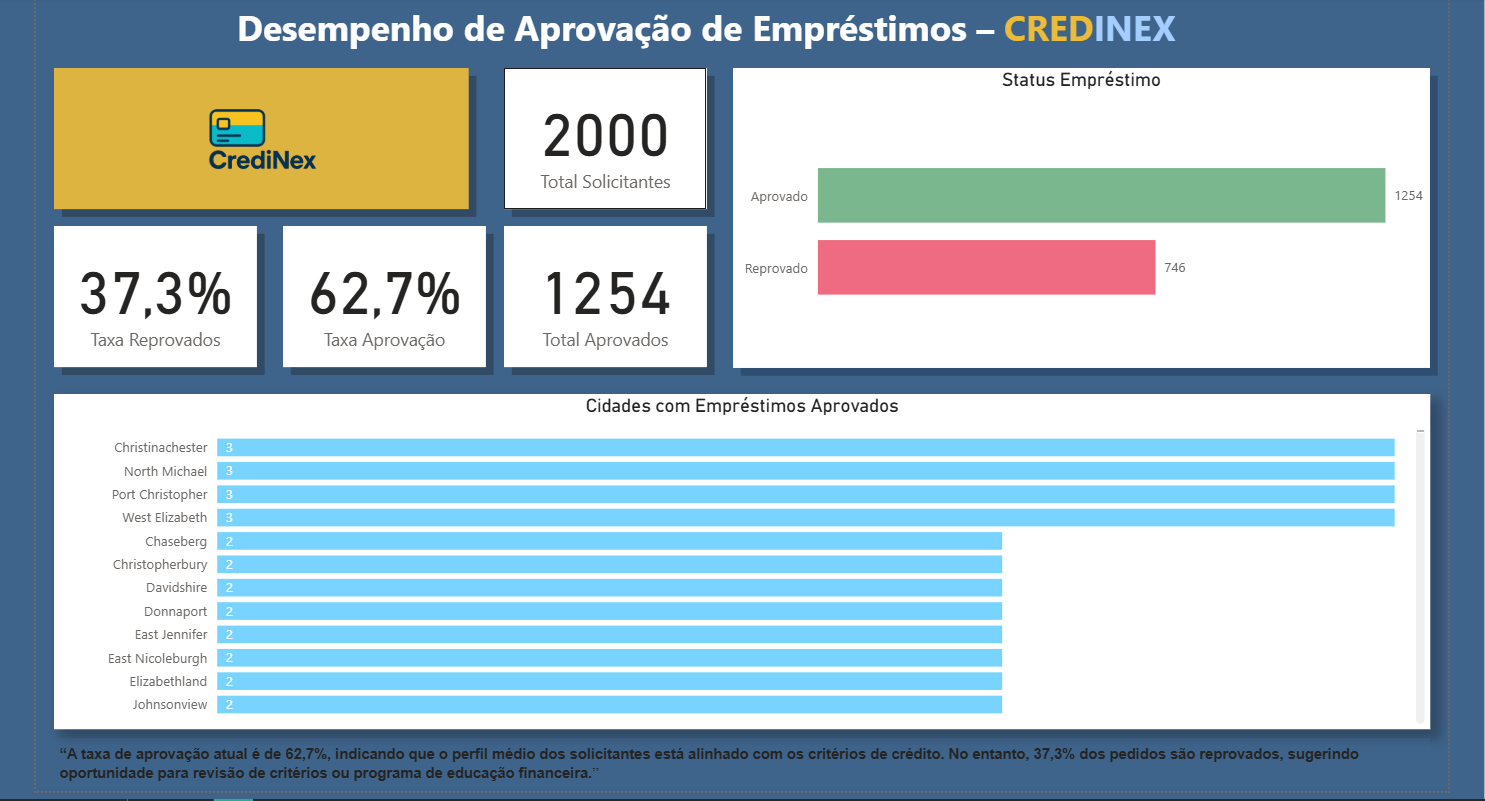

Layout of this report page (visuals, bound fields, positions):
{"tool":"powerbi","page":{"name":"Página 1","canvas":[1280,720],"ordinal":0},"visuals":[{"type":"card","fields":{"Values":["emprestimos_formatado_metabase csv.Total Aprovados"]},"box":[424,208,184,128],"z":0},{"type":"card","fields":{"Values":["emprestimos_formatado_metabase csv.Total Solicitantes"]},"box":[424,64,184,128],"z":1000},{"type":"card","fields":{"Values":["emprestimos_formatado_metabase csv.Taxa Aprovação"]},"box":[224,208,184,128],"z":2000},{"type":"clusteredBarChart","title":"Cidades com Empréstimos Aprovados","fields":{"Category":["emprestimos_formatado_metabase csv.cidade"],"Y":["emprestimos_formatado_metabase csv.Total Aprovados"]},"box":[16,360,1248,304],"z":3000},{"type":"clusteredBarChart","title":"Status Empréstimo","fields":{"Category":["emprestimos_formatado_metabase csv.Status Empréstimo"],"Y":["emprestimos_formatado_metabase csv.Total Solicitantes"]},"box":[632,64,632,272],"z":4000},{"type":"textbox","box":[168,0,880,56],"z":5000},{"type":"image","box":[16,64,376,128],"z":6000},{"type":"card","fields":{"Values":["emprestimos_formatado_metabase csv.Taxa Reprovação"]},"box":[16,208,184,128],"z":7000},{"type":"textbox","box":[16,672,1248,48],"z":7001}]}

Visuals, with their boxes in screenshot pixels (x1, y1, x2, y2):
card - emprestimos_formatado_metabase csv.Total Aprovados: box(504, 224, 705, 365)
card - emprestimos_formatado_metabase csv.Total Solicitantes: box(504, 66, 705, 207)
card - emprestimos_formatado_metabase csv.Taxa Aprovação: box(284, 224, 486, 365)
"Cidades com Empréstimos Aprovados" clusteredBarChart: box(56, 391, 1425, 724)
"Status Empréstimo" clusteredBarChart: box(732, 66, 1425, 365)
textbox: box(223, 0, 1188, 58)
image: box(56, 66, 468, 207)
card - emprestimos_formatado_metabase csv.Taxa Reprovação: box(56, 224, 258, 365)
textbox: box(56, 733, 1425, 786)
